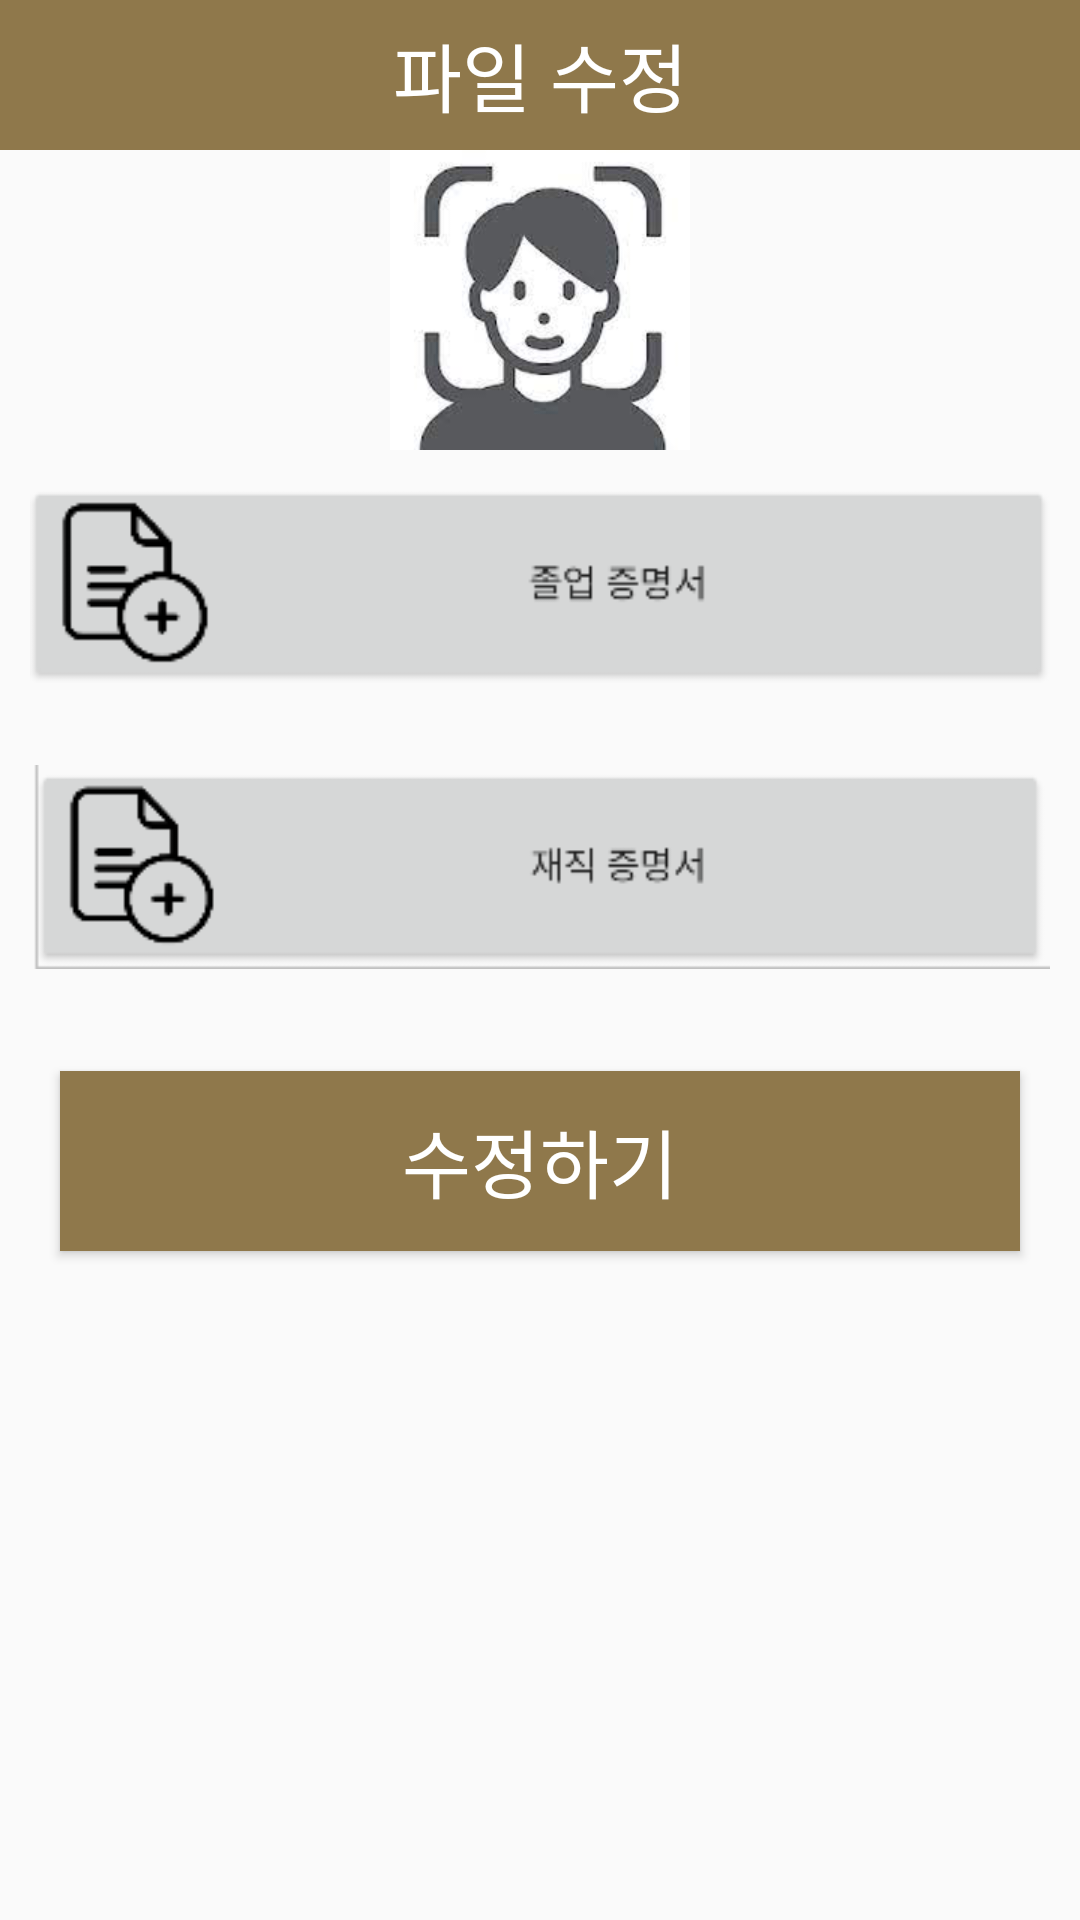

Where icons sit on this 1080×1920 app screen, as (x1, y1, x2, y2):
profileimg: (419, 165, 666, 450)
